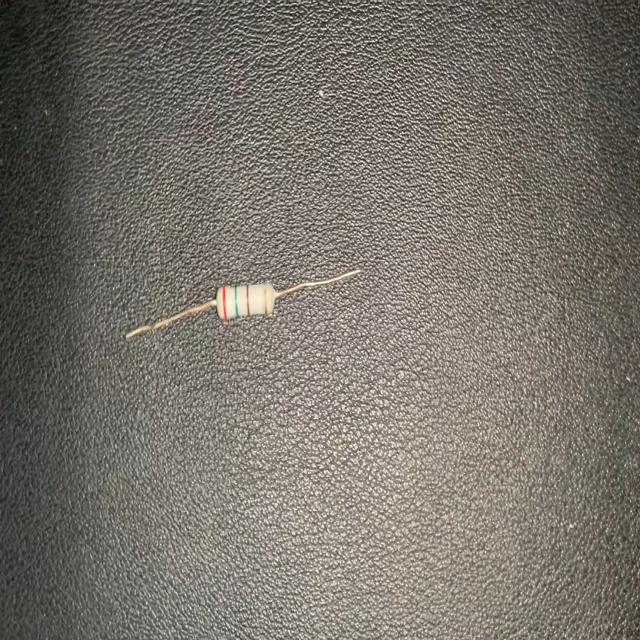resistor: (121, 266, 362, 348)
